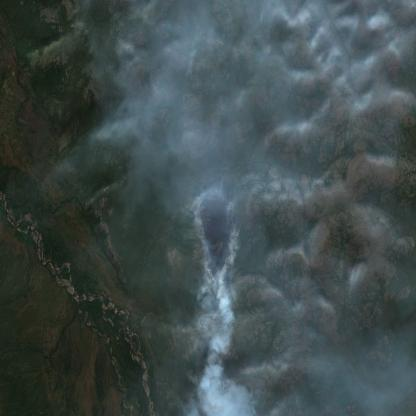fire: (190, 168, 244, 294)
